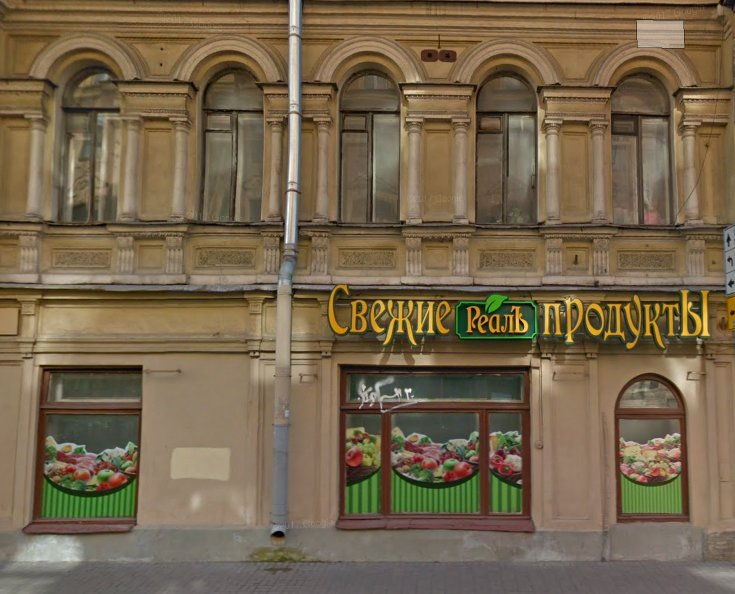signboard: (324, 273, 716, 359)
win_ad: (42, 414, 137, 517), (390, 414, 483, 512), (620, 417, 682, 514), (347, 415, 379, 512), (488, 421, 520, 515)
window: (338, 369, 527, 521), (32, 365, 144, 527), (618, 405, 686, 529), (55, 105, 123, 224), (199, 104, 264, 222), (477, 107, 539, 224), (610, 115, 677, 219), (338, 110, 400, 221)
